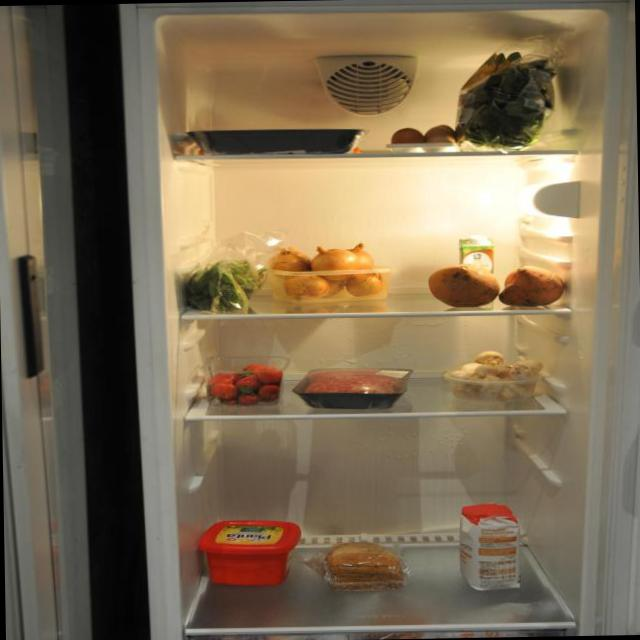Carne vacuno: (298, 370, 410, 400)
Cebolla: (266, 242, 386, 308)
Champiñones: (444, 348, 545, 401)
Huevos: (388, 122, 460, 151)
Mantequilla: (198, 520, 296, 588)
bread: (324, 538, 408, 592)
green_beans: (182, 252, 267, 316)
heavy_cream: (454, 236, 496, 286)
spinach: (461, 45, 554, 156)
strawberries: (202, 362, 284, 408)
sugar: (461, 500, 526, 595)
sweet_potato: (424, 262, 568, 306)
